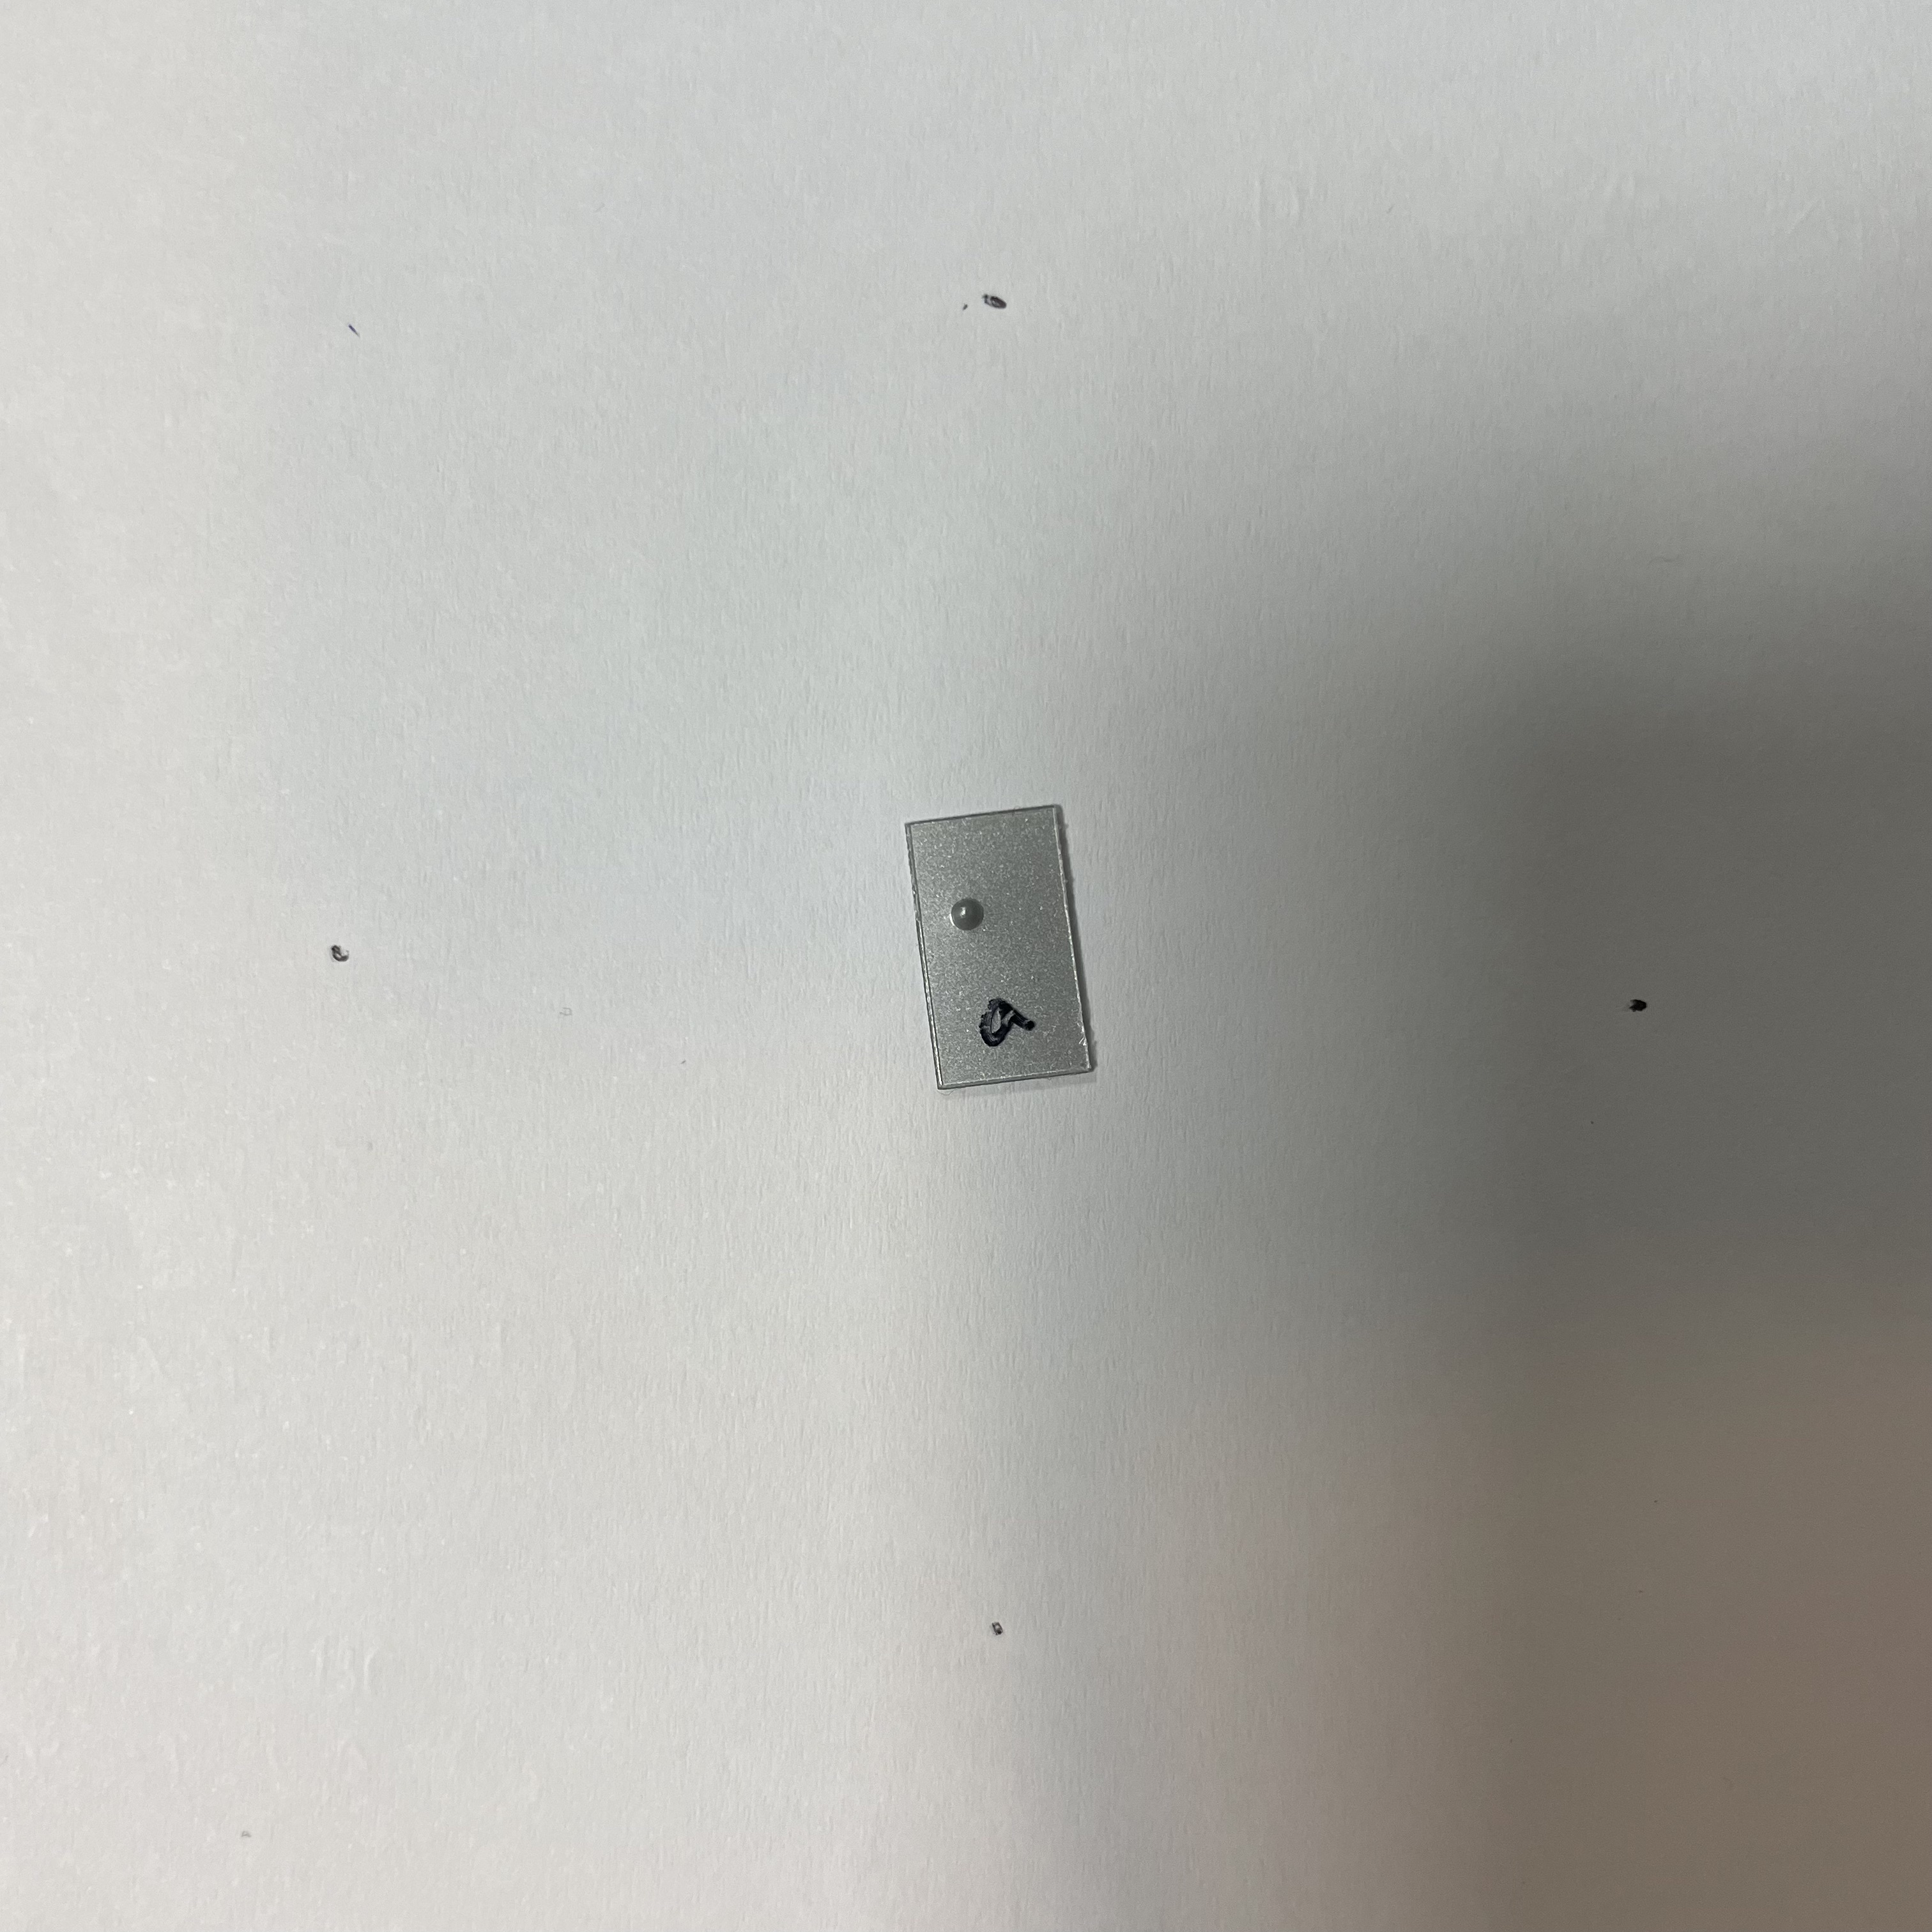a: (944, 876, 1037, 997)
